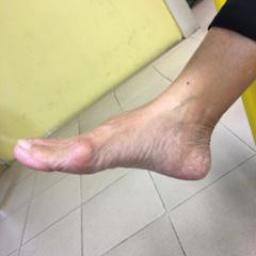Medial View -Right Foot-: (5, 74, 239, 202)
